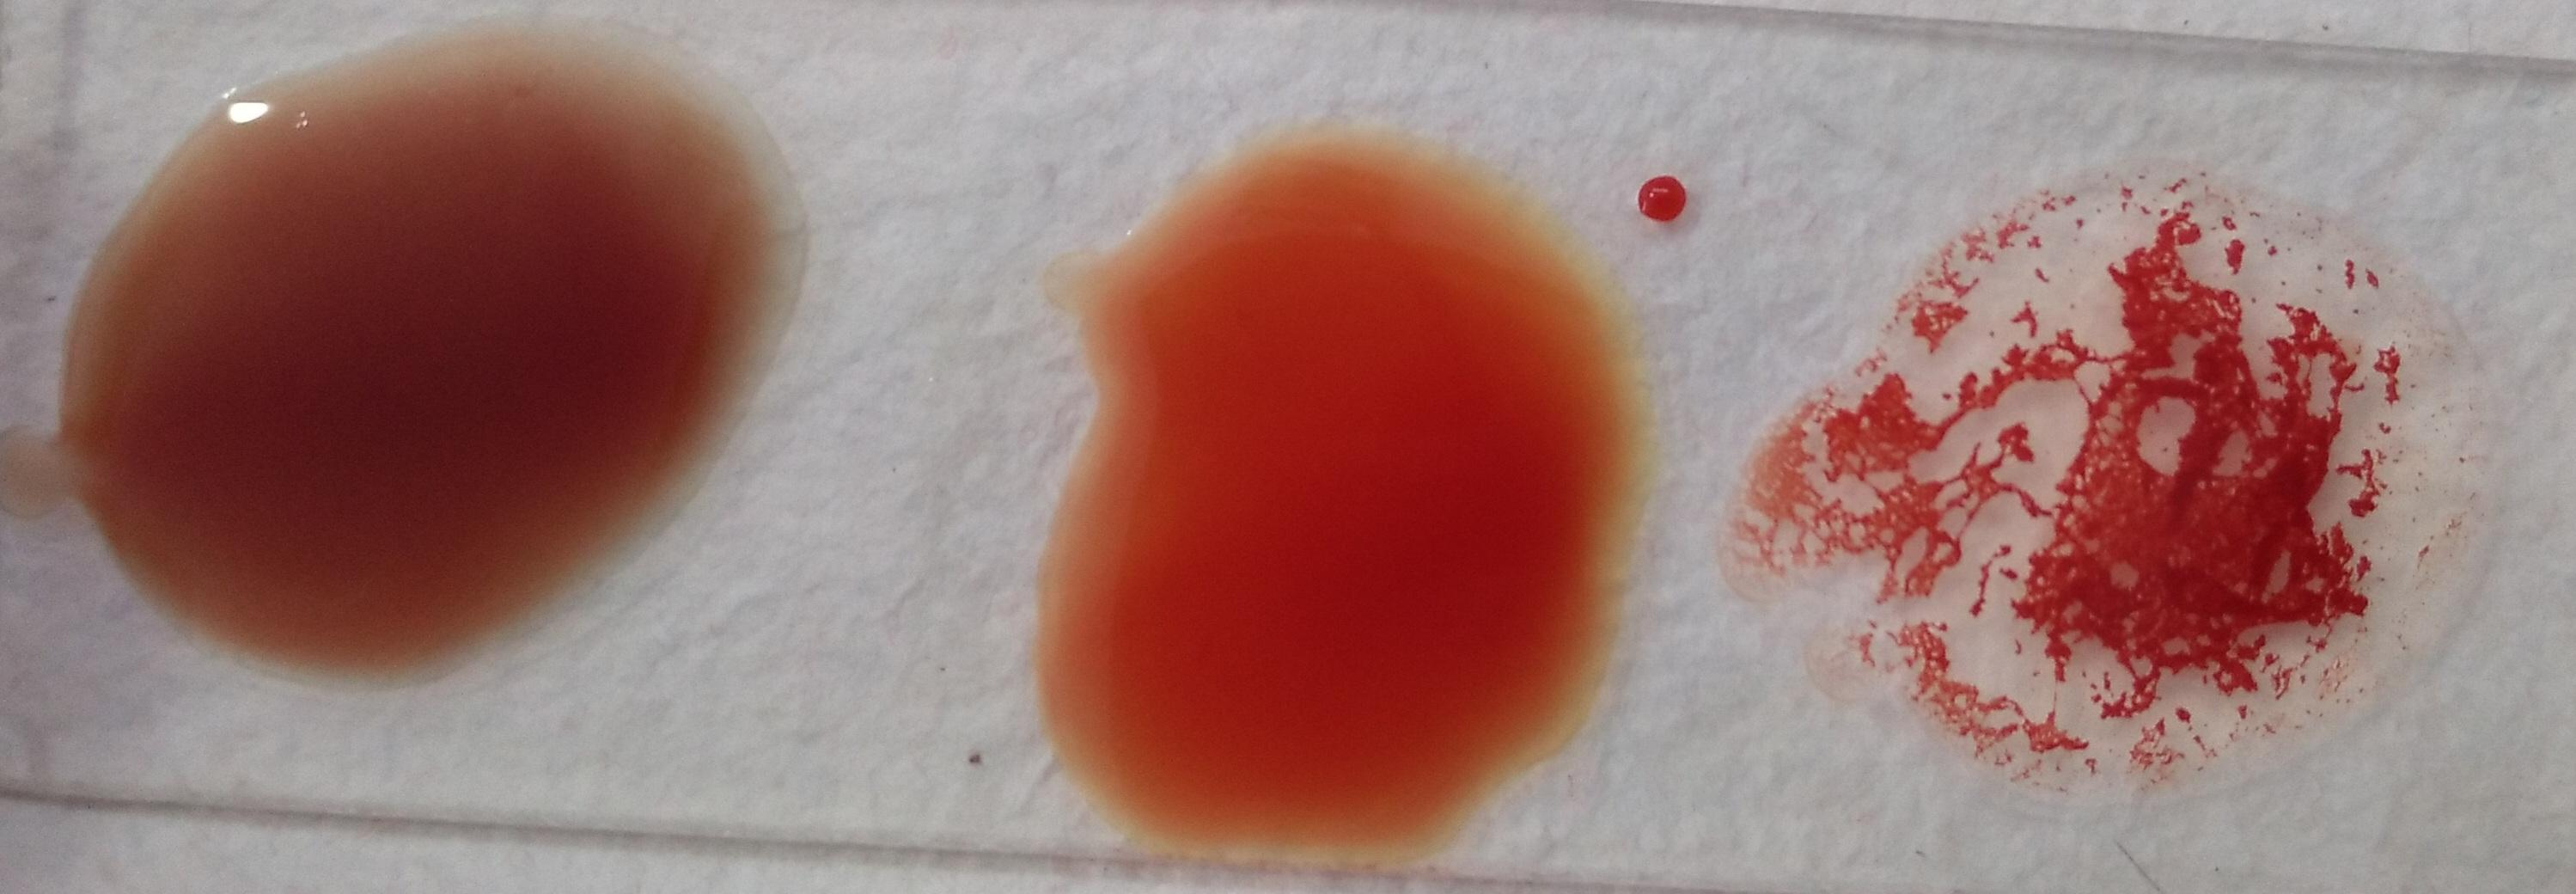D: (1791, 176, 2461, 799)
